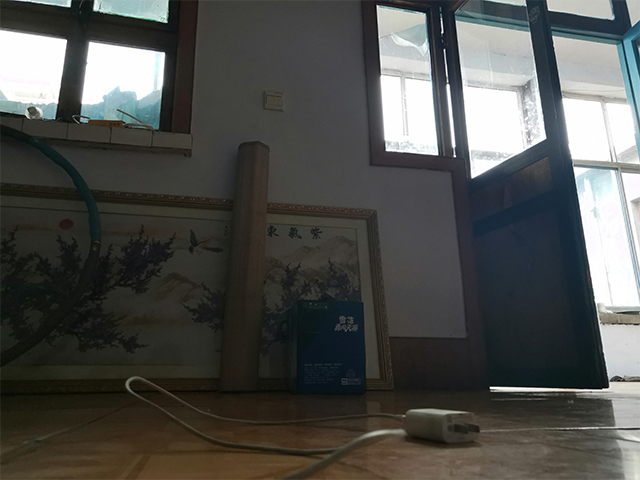wire: (123, 374, 483, 480)
